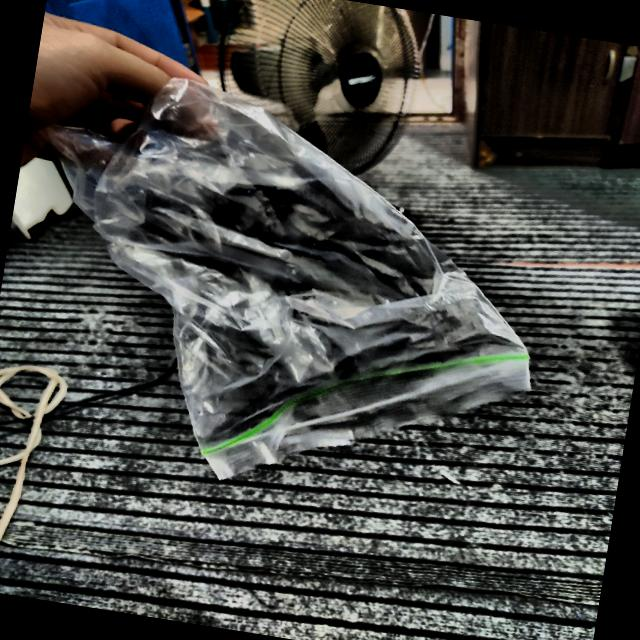plastic bag: (49, 79, 530, 479)
